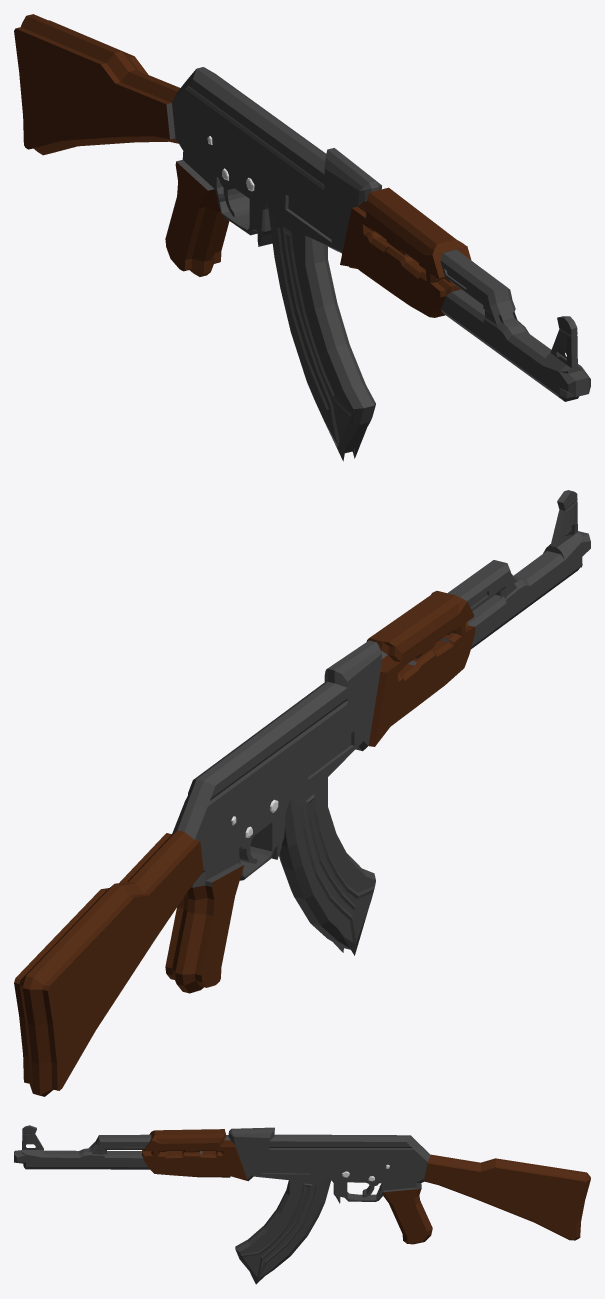
3 views of the same model, one above another, from view 1: azimuth 30°, elevation 25°; view 2: azimuth 150°, elevation 25°; view 3: azimuth 270°, elevation 25° (orthographic). The views are drawn at different scales.
Visible parts, largest first — view 1: Ak47; view 2: Ak47; view 3: Ak47.
Boxes of the visible parts, x1,y1,x2,y2 form: Ak47: [14, 14, 590, 461]; Ak47: [14, 490, 590, 1096]; Ak47: [14, 1125, 590, 1284].
Size of the model in its own units: 6.42 by 51.34 by 171.
